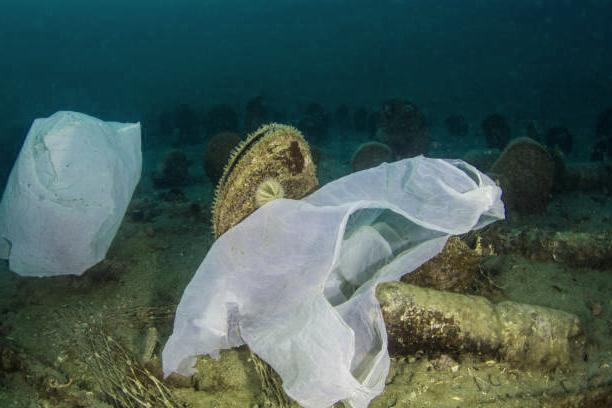Trash: (161, 156, 503, 408), (0, 108, 142, 279)
